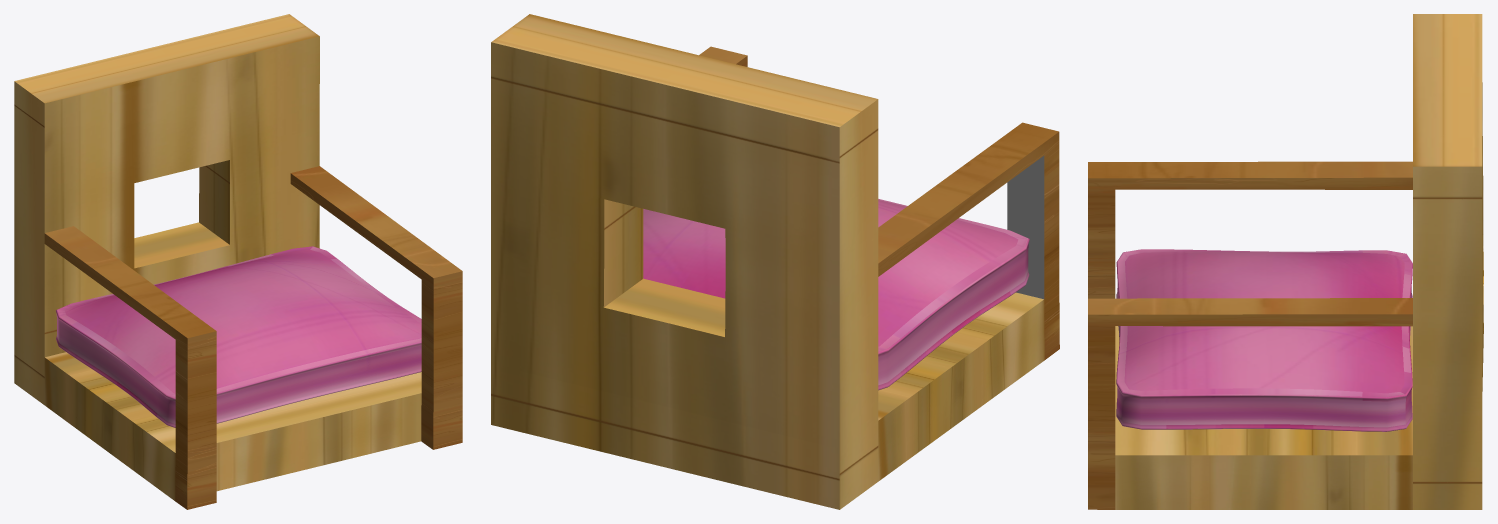
Rendered from chair_pink.fbx.
3 renders of one model, left to right at view 1: azimuth 30°, elevation 25°; view 2: azimuth 150°, elevation 25°; view 3: azimuth 270°, elevation 25°, orthographic. The views are drawn at different scales.
Parts seen in each view (by area): view 1: pCube51; view 2: pCube51; view 3: pCube51.
Boxes of the visible parts, bbox=[...] form: pCube51: bbox=[14, 14, 462, 509]; pCube51: bbox=[491, 14, 1059, 509]; pCube51: bbox=[1088, 14, 1483, 509].
Size of the model in its own units: 5.6 by 5.87 by 6.13.
4 materials, 3 textured.
